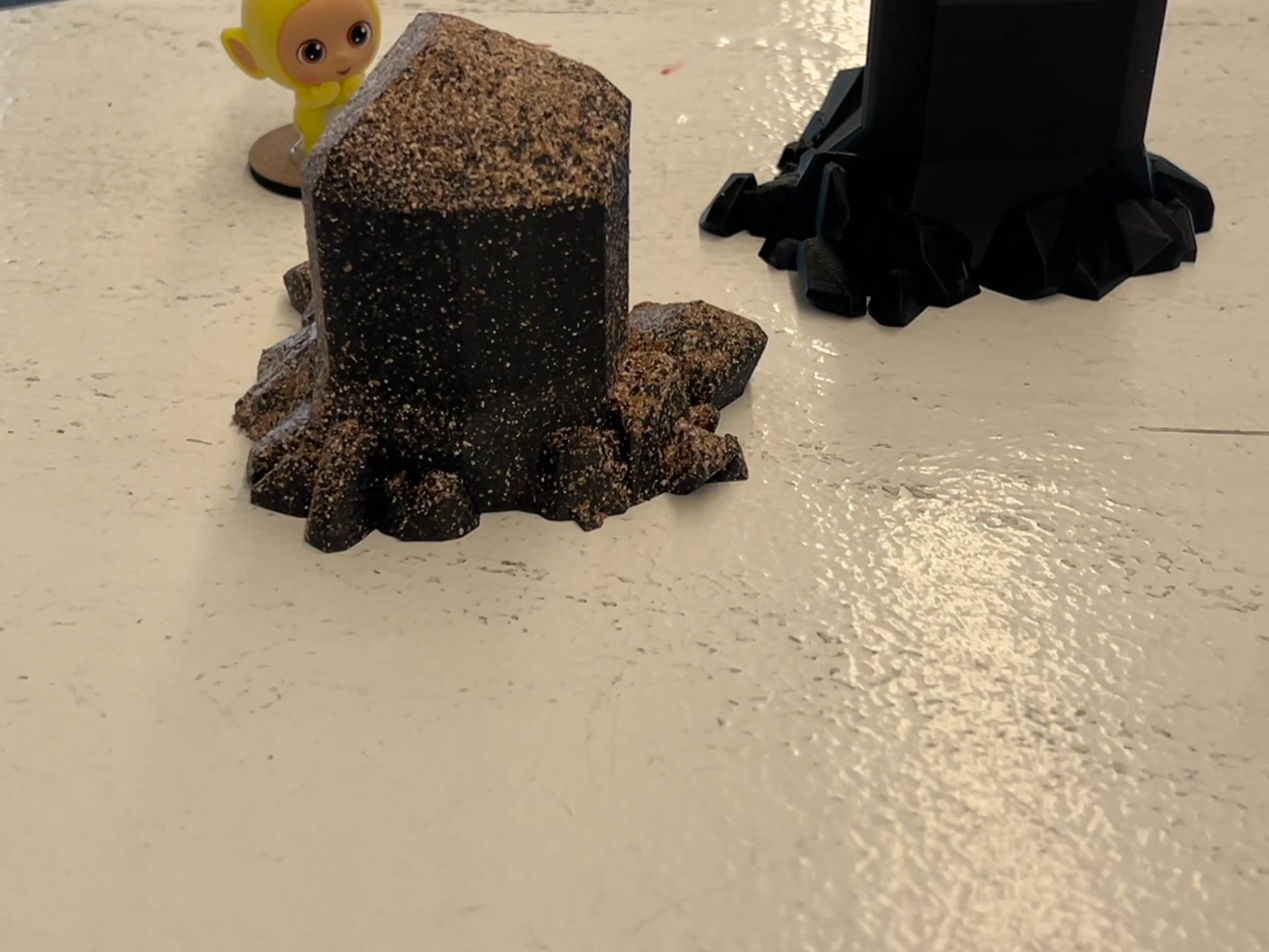teletubby: (222, 0, 381, 150)
